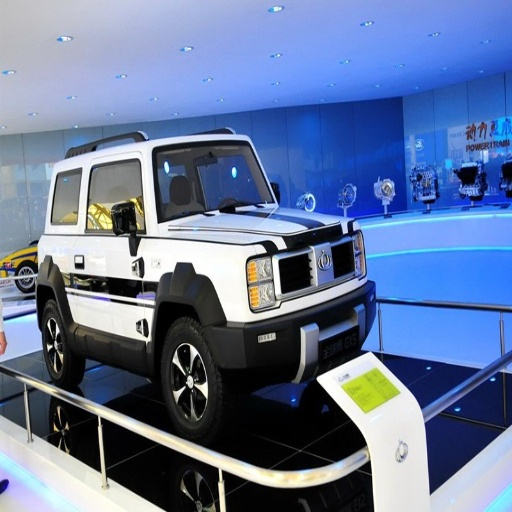front_bumper: (217, 235, 372, 450)
front_glass: (151, 143, 275, 216)
front_right_door: (86, 159, 143, 272)
front_right_light: (246, 241, 281, 310)
trunk: (106, 275, 160, 358)
